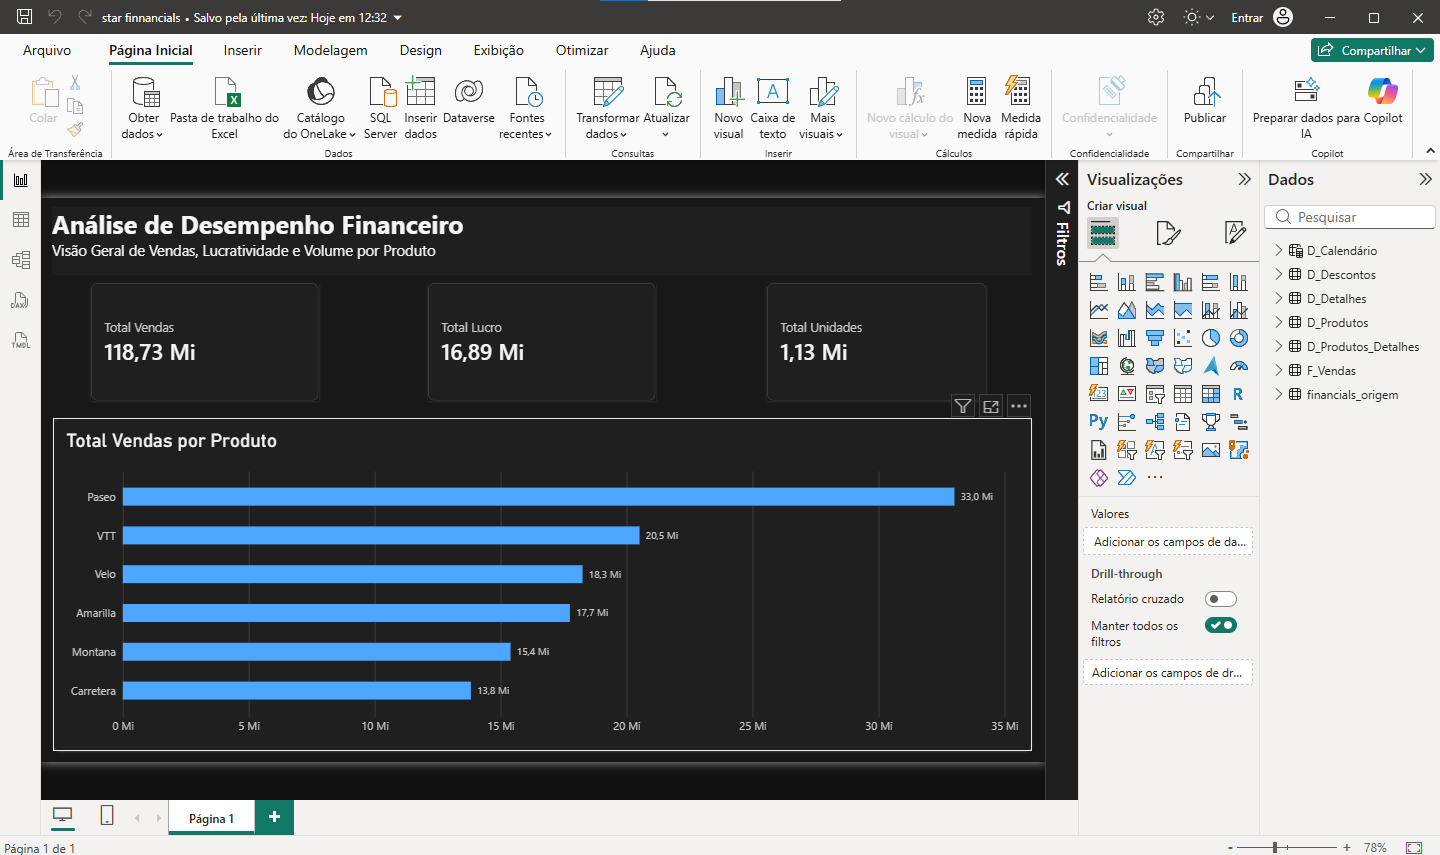

Layout of this report page (visuals, bound fields, positions):
{"tool":"powerbi","page":{"name":"Página 1","canvas":[1280,720],"ordinal":0},"visuals":[{"type":"cardVisual","fields":{"Data":["F_Vendas.Total Vendas"]},"box":[64.1,108,290.7,150.4],"z":0},{"type":"cardVisual","fields":{"Data":["F_Vendas.Total Unidades"]},"box":[925.9,108,280.5,150.4],"z":1000},{"type":"cardVisual","fields":{"Data":["F_Vendas.Total Lucro"]},"box":[493.3,108.2,290.7,150.4],"z":2000},{"type":"barChart","title":"Total Vendas por Produto","fields":{"Category":["F_Vendas.Product"],"Y":["F_Vendas.Total Vendas"]},"box":[15.3,280.5,1248.1,424.5],"z":3000},{"type":"textbox","box":[14.6,11.2,1248.6,86.6],"z":4000}]}

Visuals, with their boxes on the page's 1280x720 design canvas (x1, y1, x2, y2). These are canvas units, not pixel positions in the 1440x855 screenshot, which may show the page scaled, cropped or inside an application window:
cardVisual - F_Vendas.Total Vendas: box=[64, 108, 355, 258]
cardVisual - F_Vendas.Total Unidades: box=[926, 108, 1206, 258]
cardVisual - F_Vendas.Total Lucro: box=[493, 108, 784, 259]
"Total Vendas por Produto" barChart: box=[15, 280, 1263, 705]
textbox: box=[15, 11, 1263, 98]
